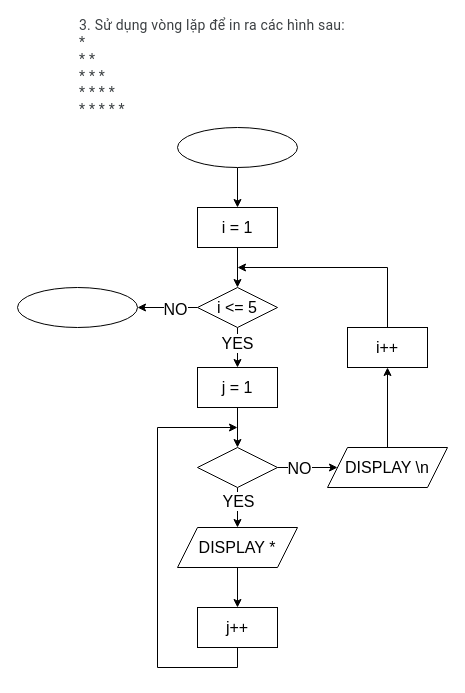
Some shapes in this 465 by 693 pixel diagram are drawn without their labels. The box of each missing label's shape, as (x1, y1, x2, y2) in pixels:
j <= i: (196, 446, 278, 488)
START: (176, 126, 298, 168)
STOP: (16, 286, 138, 328)
